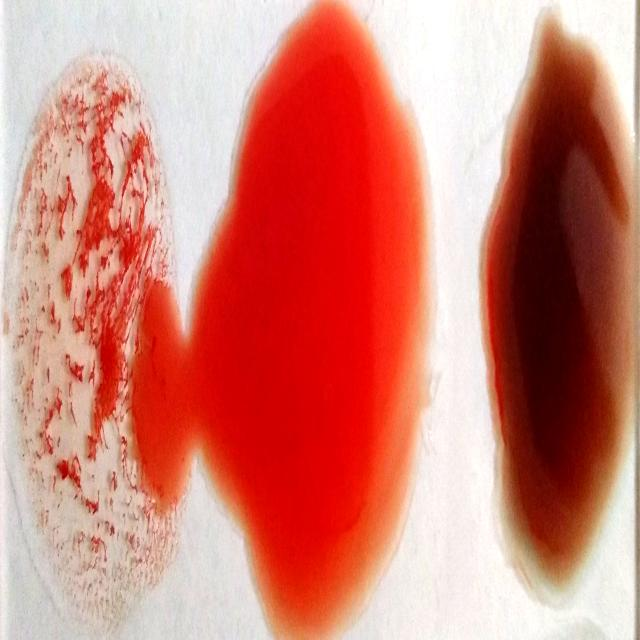D: (10, 74, 170, 630)
